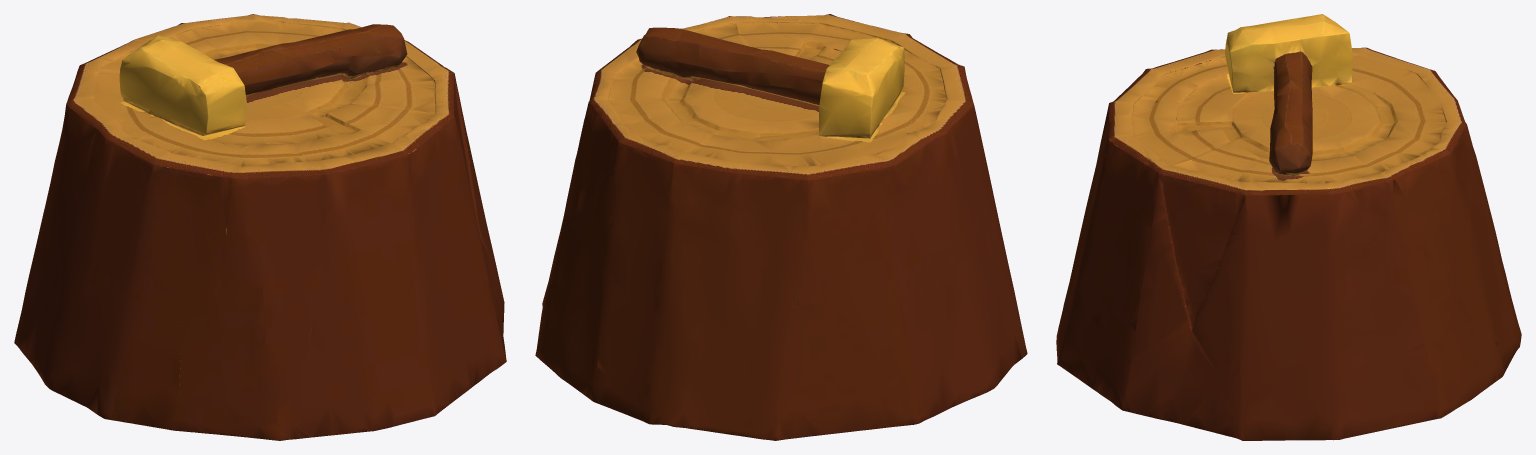
Rendered from carved-stump-high.glb.
The picture shows the model from 3 angles, left to right: view 1: azimuth 30°, elevation 25°; view 2: azimuth 150°, elevation 25°; view 3: azimuth 270°, elevation 25°; orthographic projection. The views are drawn at different scales.
Visible parts, largest first — view 1: bridge-stump-carved-hammer; view 2: bridge-stump-carved-hammer; view 3: bridge-stump-carved-hammer.
Part boxes in pixels (x1,y1,x2,y2): bridge-stump-carved-hammer: [14, 14, 506, 440]; bridge-stump-carved-hammer: [535, 14, 1027, 440]; bridge-stump-carved-hammer: [1056, 14, 1521, 440].
Bounding box in the file's own units: 1.16 × 0.7857 × 1.17.
1 material, 1 textured.
